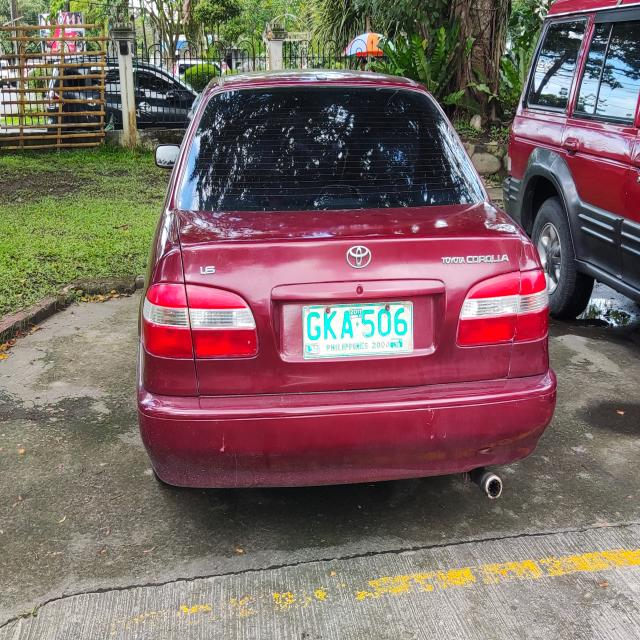plate: (301, 299, 415, 360)
